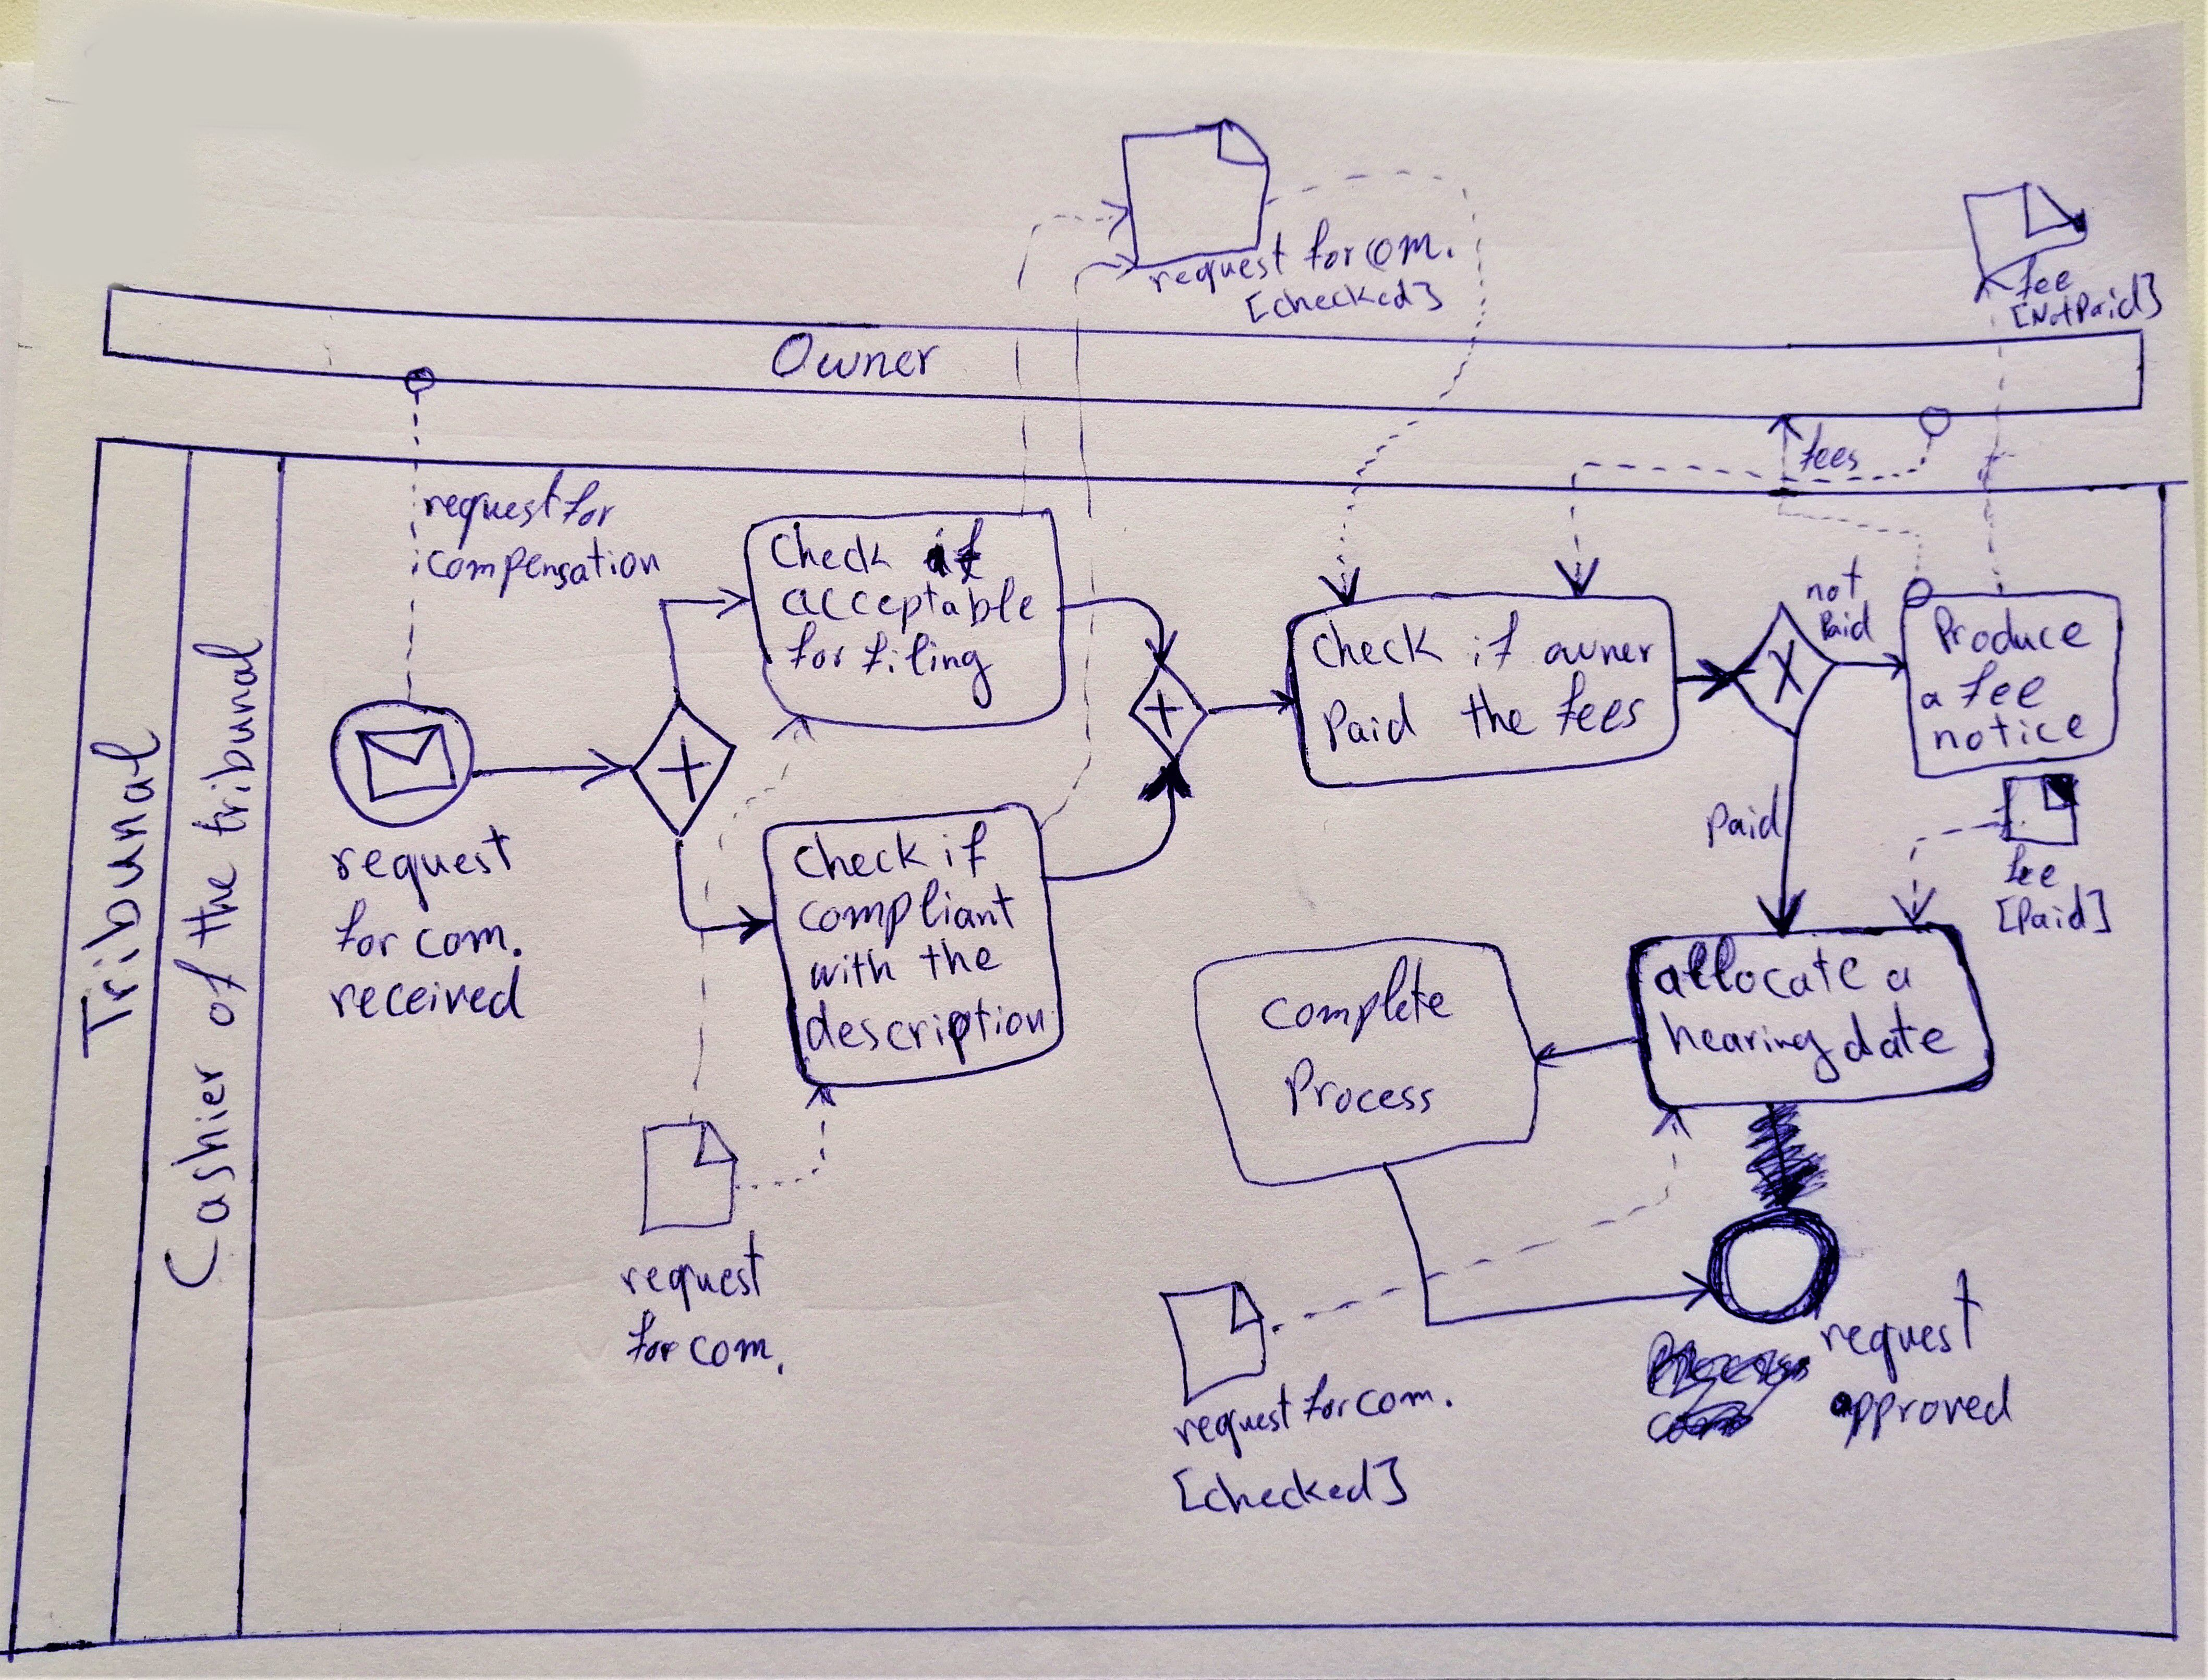Cashier: (155, 1052, 244, 1295)
Owner: (764, 330, 944, 383)
Paid: (1317, 686, 1421, 757), (1698, 776, 1786, 856), (1814, 596, 1878, 648)
Paid]: (2072, 272, 2164, 323)
Process: (1280, 1054, 1438, 1119)
Produce: (1927, 600, 2097, 658)
Tribunal: (69, 718, 171, 1064)
[Not: (2007, 293, 2076, 332)
[Paid]: (1987, 879, 2116, 939)
[checked]: (1167, 1447, 1414, 1521), (1241, 274, 1446, 326)
a: (1880, 962, 1915, 995), (1915, 686, 1949, 715)
acceptable: (777, 572, 1043, 641)
allocate: (1647, 928, 1873, 1006)
approved: (1825, 1368, 2017, 1456)
check: (787, 824, 935, 884), (1308, 614, 1447, 672), (764, 519, 897, 579)
com.: (409, 918, 528, 964), (1363, 222, 1460, 277), (683, 1331, 787, 1380), (1350, 1384, 1456, 1422)
compensation: (420, 531, 665, 604)
complete: (1255, 949, 1458, 1048)
compliant: (792, 874, 1020, 953)
date: (1837, 995, 1961, 1066)
description: (800, 992, 1050, 1071)
fee: (1954, 655, 2049, 716), (2000, 838, 2065, 893), (2010, 251, 2074, 300)
fees: (1551, 667, 1648, 743), (1795, 425, 1862, 476)
filing: (856, 626, 997, 713)
for: (330, 893, 404, 964), (780, 618, 851, 676), (620, 1306, 683, 1369), (1297, 214, 1359, 275), (1297, 1368, 1354, 1428), (558, 478, 620, 531)
hearing: (1652, 1006, 1843, 1089)
if: (918, 514, 990, 591), (1467, 605, 1523, 676), (935, 817, 994, 882)
not: (1800, 552, 1867, 605)
notice: (1929, 709, 2092, 755)
of: (168, 953, 254, 1034)
owner: (1537, 635, 1659, 671)
received: (323, 960, 529, 1024)
request: (1813, 1264, 1989, 1389), (325, 821, 515, 918), (614, 1225, 770, 1318), (417, 464, 567, 554), (1168, 1376, 1297, 1465), (1145, 228, 1290, 298)
the: (173, 856, 245, 956), (1454, 679, 1541, 745), (912, 935, 1008, 985)
tribunal: (185, 634, 268, 842)
with: (805, 944, 900, 994)
